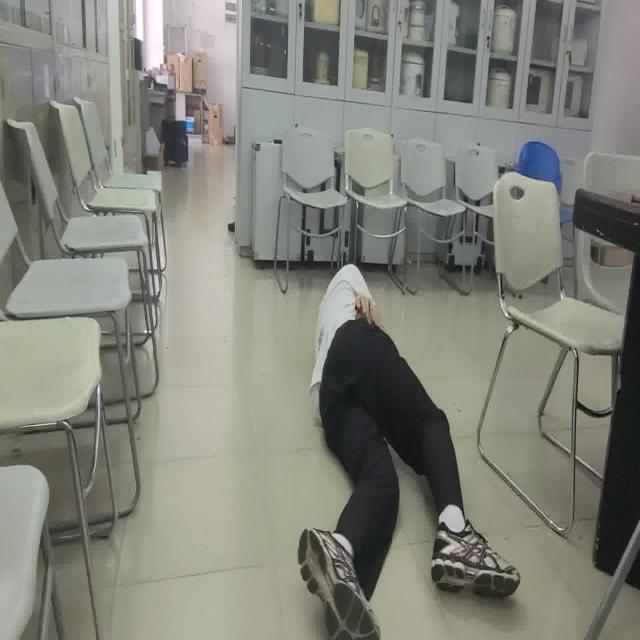fall: (294, 263, 522, 640)
